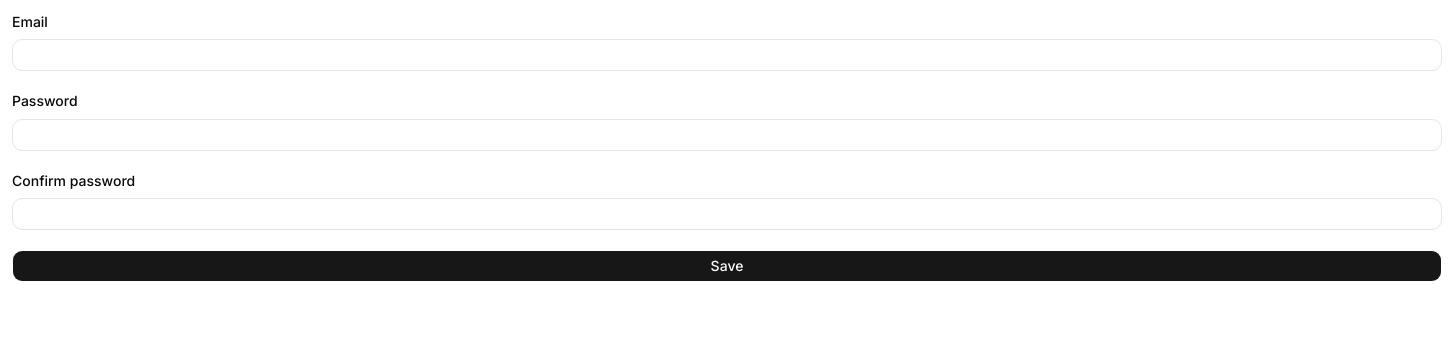
it: useAuthForm › leaves handled error codes to the form without a toast
The width and height of the screenshot is (1452, 342).
Type "user@example.com" into the field labelled "Email" at (727, 55), box [12,39,1442,71]
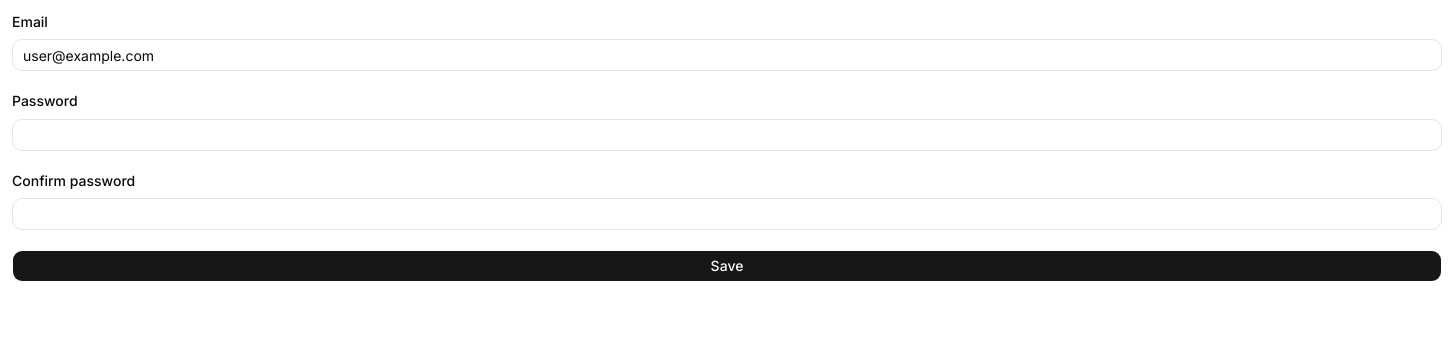
Type "correct-horse-battery" into the password field labelled "Password" at (727, 134), box [12,118,1442,150]
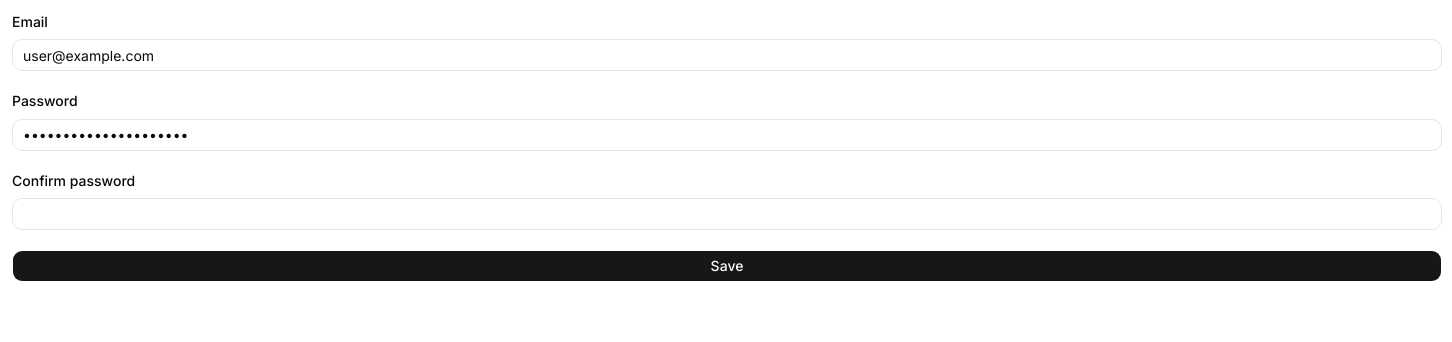
Type "correct-horse-battery" into the password field labelled "Confirm password" at (727, 214), box [12,198,1442,230]
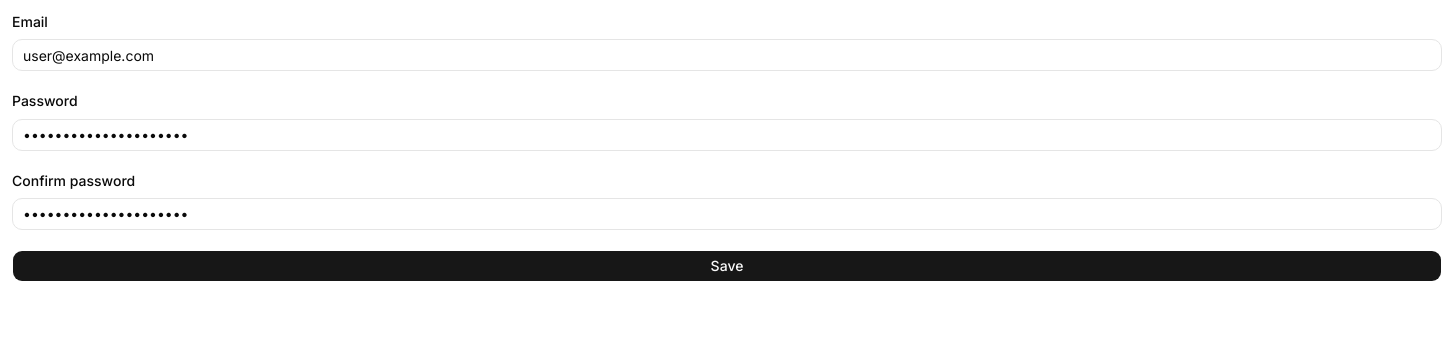
Submit the form named "Save"
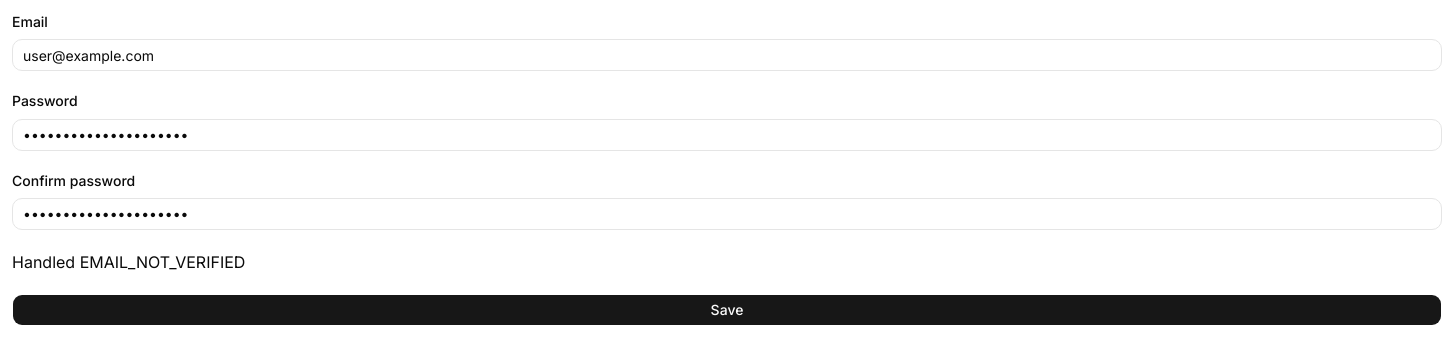
Expected: the text "Handled EMAIL_NOT_VERIFIED" is shown, [12,252,245,272]
Submit the form named "Save"
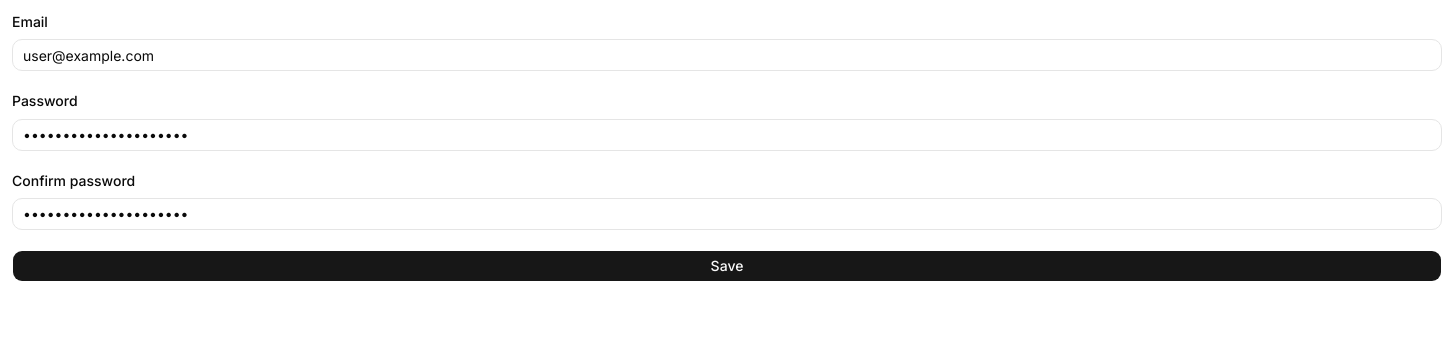
Expected: the text "Handled EMAIL_NOT_VERIFIED" is gone
